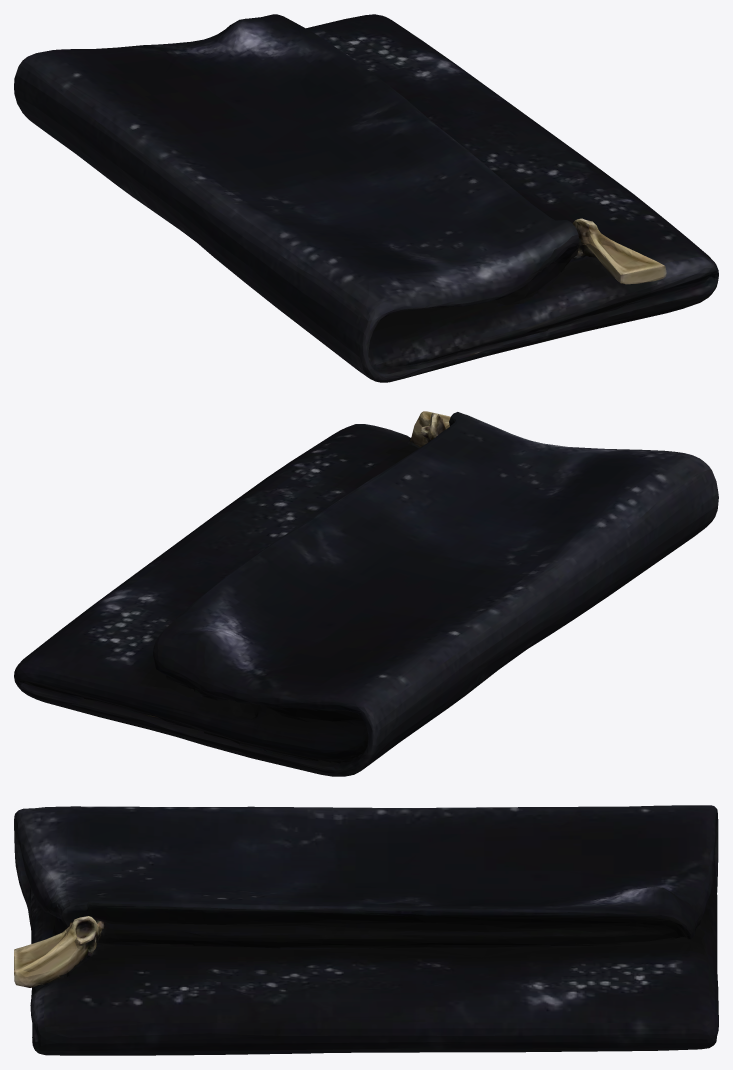
3 views of the same model, one above another, from view 1: azimuth 30°, elevation 25°; view 2: azimuth 150°, elevation 25°; view 3: azimuth 270°, elevation 25° (orthographic). The views are drawn at different scales.
Visible parts, largest first — view 1: geometry_0; view 2: geometry_0; view 3: geometry_0.
Part boxes in pixels (x1,y1,x2,y2): geometry_0: [14, 14, 718, 382]; geometry_0: [14, 411, 718, 776]; geometry_0: [14, 805, 718, 1055].
Bounding box in the file's own units: 0.6141 × 0.1691 × 0.9983.
Materials: 1 (1 with a texture image).
